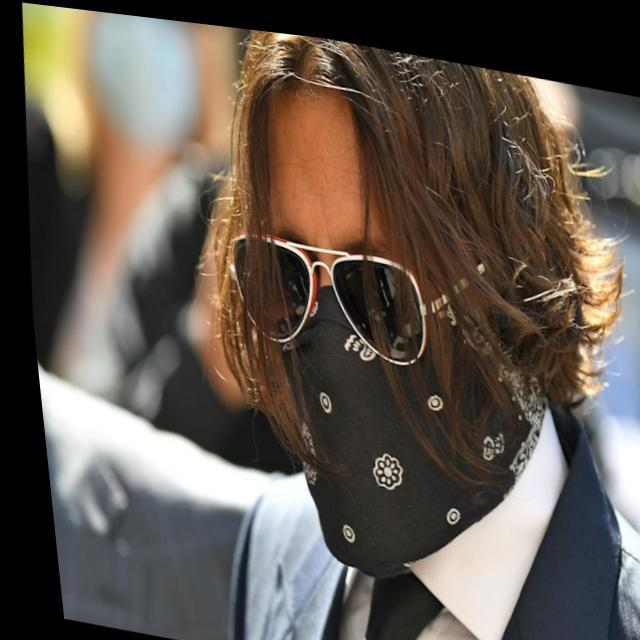Nonhelmet: (202, 30, 627, 575)
